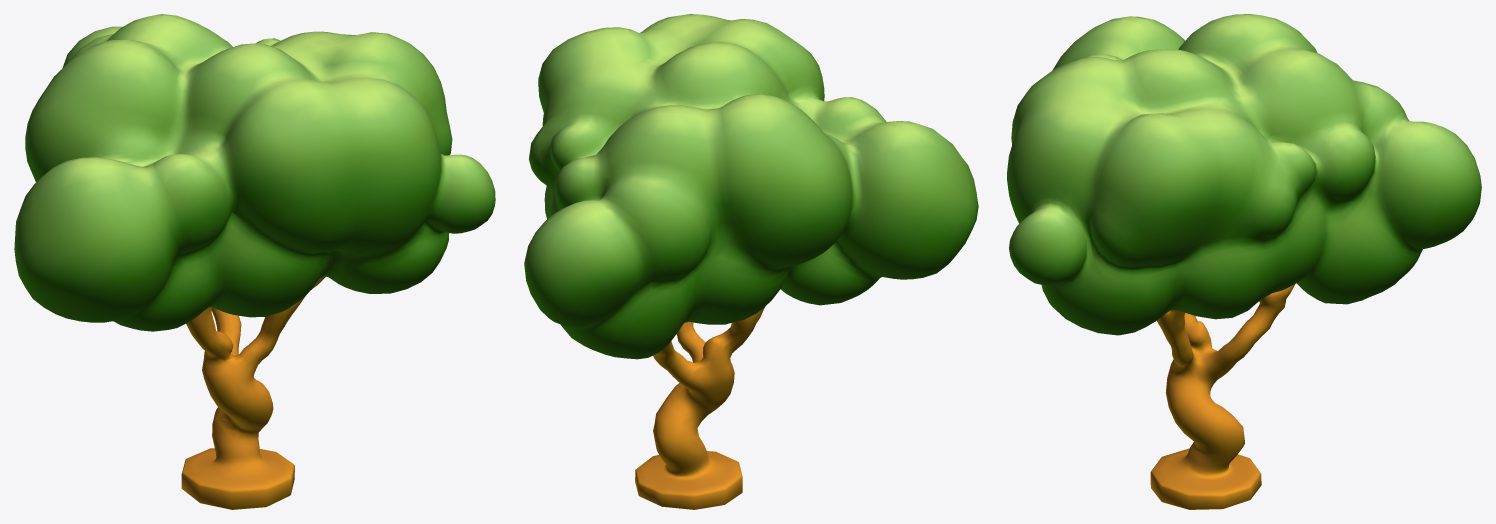
File: tree2.fbx
3 renders of one model, left to right at view 1: azimuth 30°, elevation 25°; view 2: azimuth 150°, elevation 25°; view 3: azimuth 270°, elevation 25°, orthographic. The views are drawn at different scales.
Parts seen in each view (by area): view 1: trunk_1; view 2: trunk_1; view 3: trunk_1.
Part boxes in pixels (x1,y1,x2,y2): trunk_1: [14, 14, 495, 509]; trunk_1: [524, 14, 978, 509]; trunk_1: [1007, 14, 1481, 509].
Size of the model in its own units: 528 by 530 by 529.
